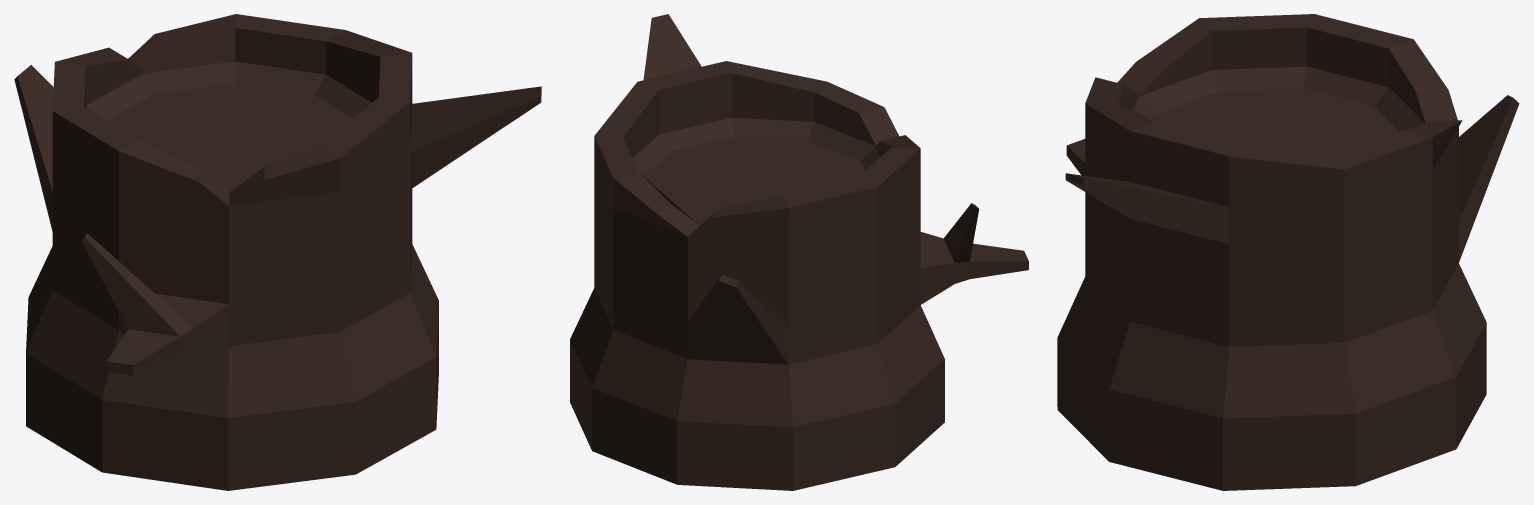
The model's file is TorTree2.fbx.
The picture shows the model from 3 angles, left to right: view 1: azimuth 30°, elevation 25°; view 2: azimuth 150°, elevation 25°; view 3: azimuth 270°, elevation 25°; orthographic projection. The views are drawn at different scales.
Parts seen in each view (by area): view 1: pCylinder3; view 2: pCylinder3; view 3: pCylinder3.
Part boxes in pixels (x1,y1,x2,y2): pCylinder3: (14,14,541,490); pCylinder3: (570,14,1028,490); pCylinder3: (1057,14,1519,490).
Size of the model in its own units: 2.66 by 1.94 by 2.46.
